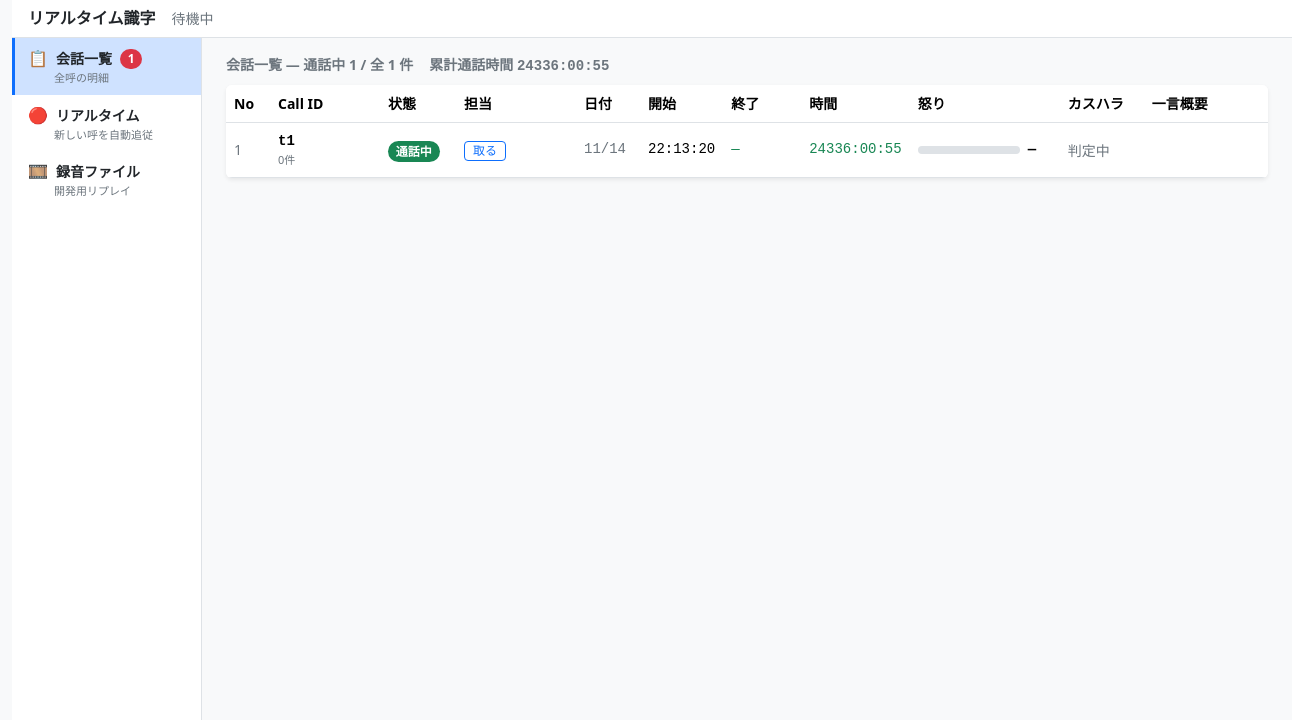
it: ライブ更新 › 発話→判定→アラート→通話終了後も状態が残る
The width and height of the screenshot is (1292, 720).
Click the button with test id "call-t1" at (747, 150), box left=226, top=122, right=1268, bottom=177
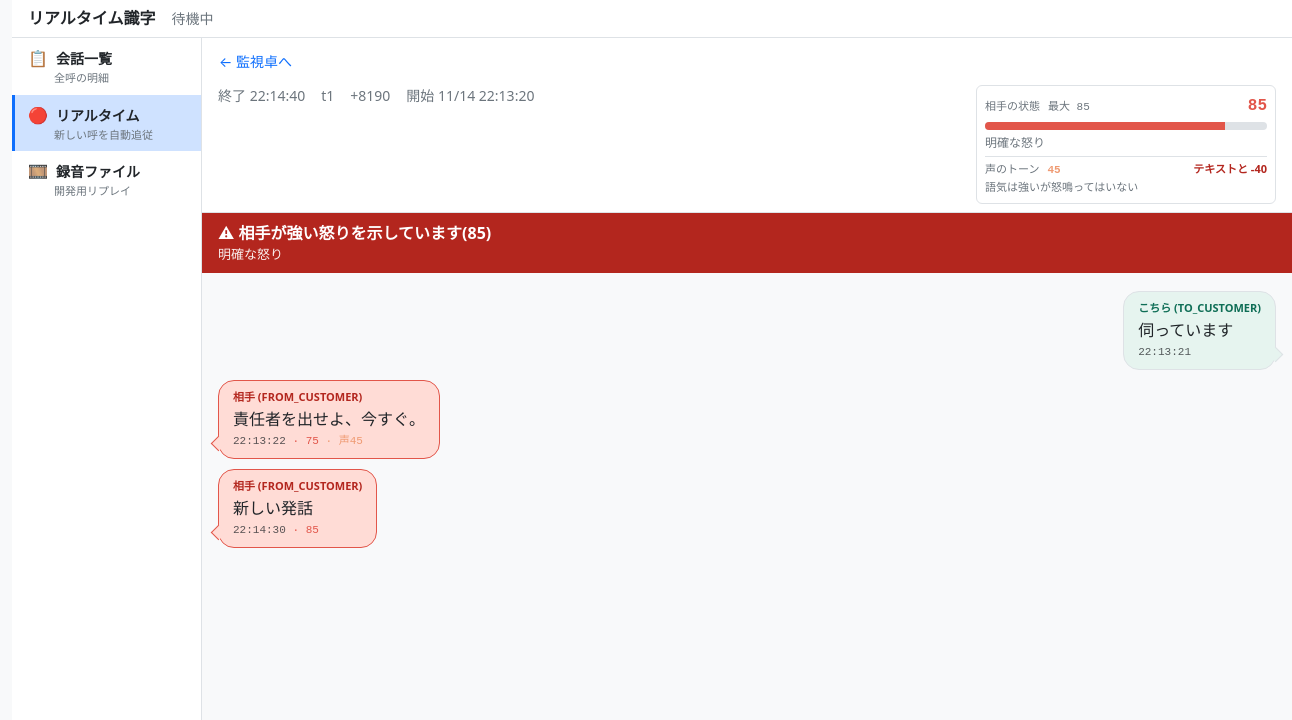
expect the element with test id "situation" is shown: met, box left=976, top=85, right=1276, bottom=204
expect the text "新しい発話" is shown: met, box left=233, top=497, right=313, bottom=519
expect the element with test id "alert" shows "85": met, box left=468, top=222, right=486, bottom=244
